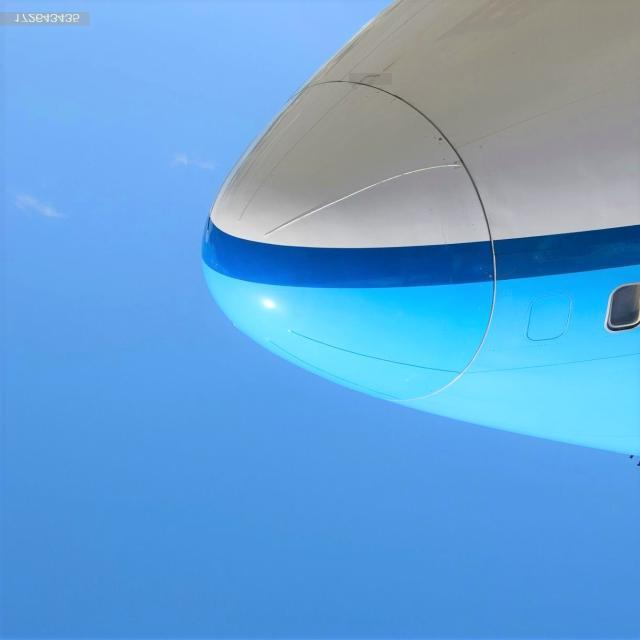crack: (350, 74, 393, 86)
